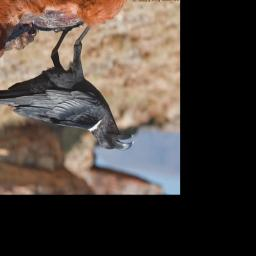Crow: (0, 21, 134, 154)
